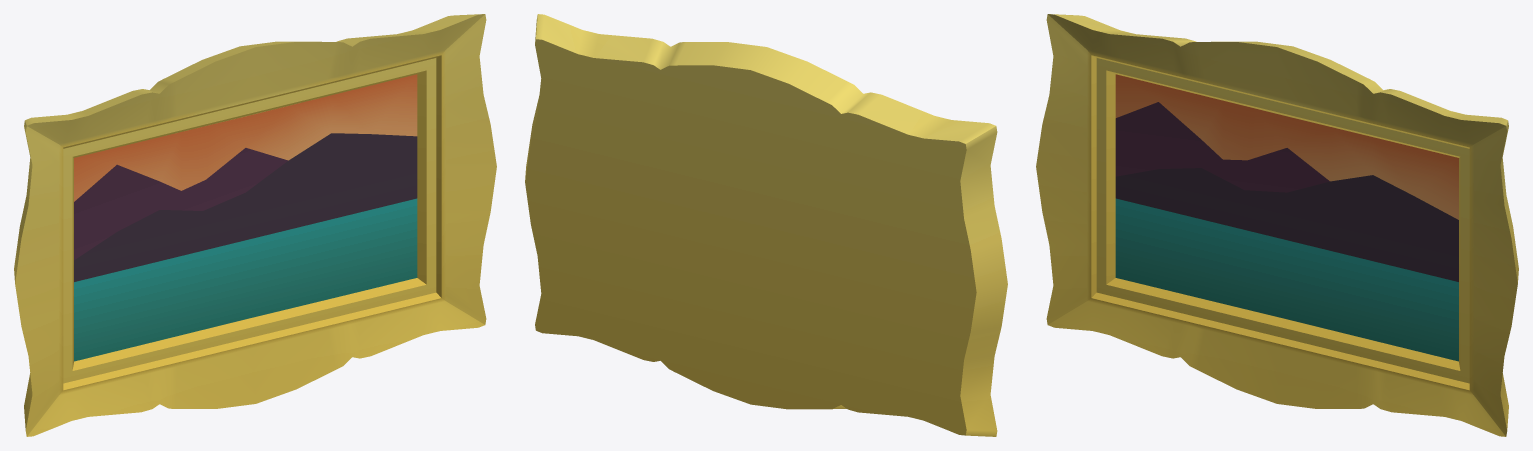
File: SM_Painting.fbx
The picture shows the model from 3 angles, left to right: view 1: azimuth 30°, elevation 25°; view 2: azimuth 150°, elevation 25°; view 3: azimuth 330°, elevation 25°; orthographic projection.
Parts seen in each view (by area): view 1: SM_Painting; view 2: SM_Painting; view 3: SM_Painting.
Boxes of the visible parts, bbox=[...] form: SM_Painting: bbox=[14, 14, 496, 436]; SM_Painting: bbox=[525, 14, 1007, 436]; SM_Painting: bbox=[1036, 14, 1518, 436].
Size of the model in its own units: 257 by 182 by 15.03.
